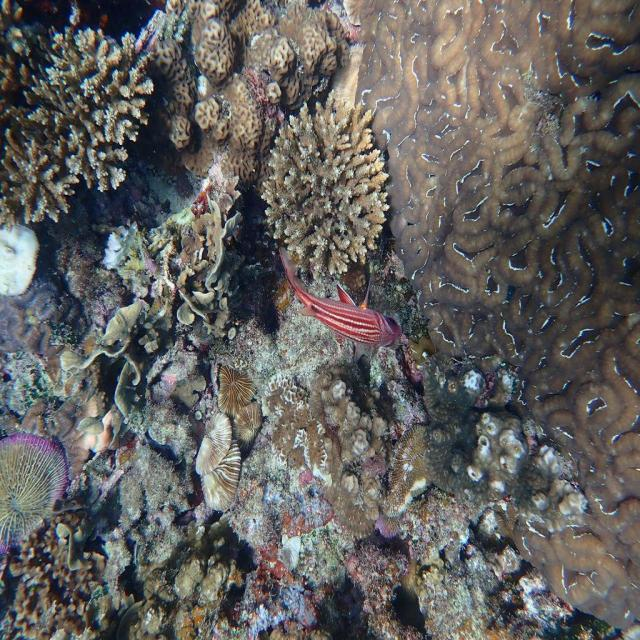Asker Baligi: (265, 212, 424, 367)
